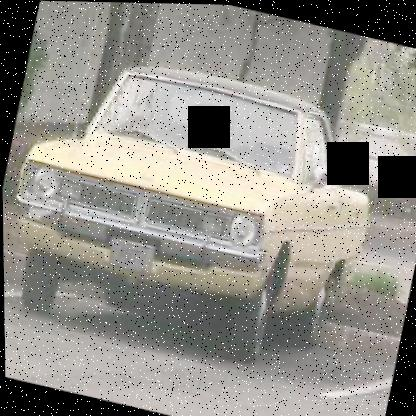not_emergency: (0, 28, 415, 394)
